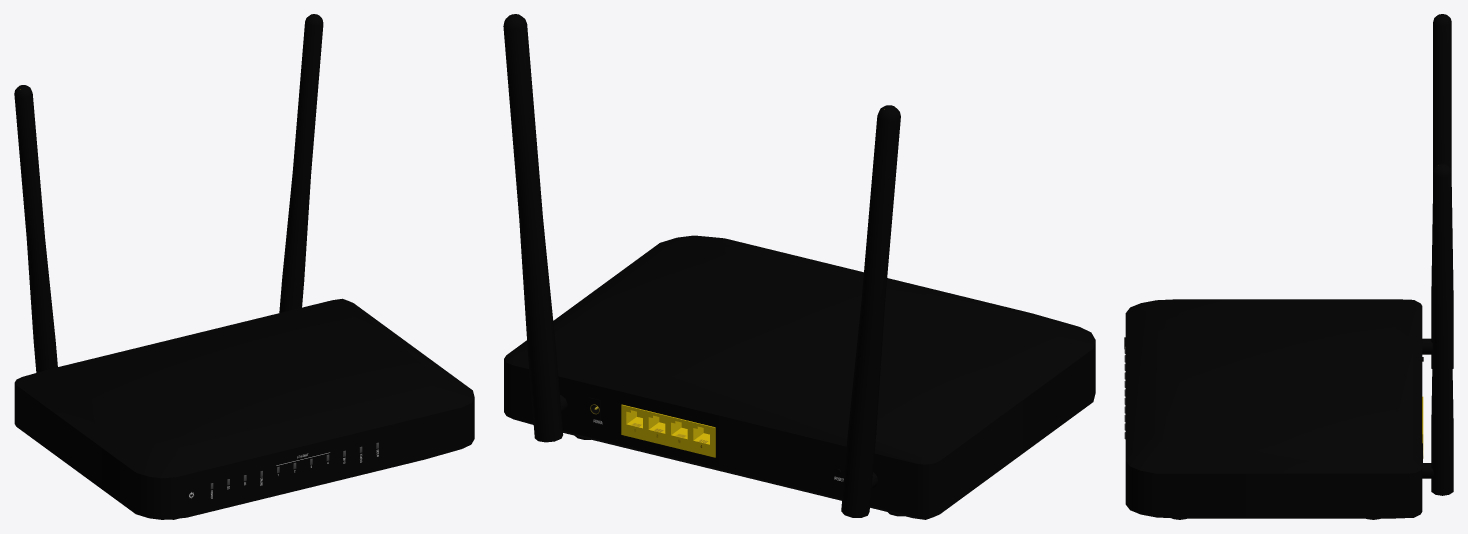
File: router.fbx
3 views of the same model, side by side, from view 1: azimuth 30°, elevation 25°; view 2: azimuth 150°, elevation 25°; view 3: azimuth 270°, elevation 25° (orthographic). The views are drawn at different scales.
Visible parts, largest first — view 1: Router; view 2: Router; view 3: Router.
Boxes of the visible parts, left/top/right/bottom form: Router: left=14, top=14, right=474, bottom=519; Router: left=503, top=14, right=1095, bottom=519; Router: left=1124, top=14, right=1453, bottom=519.
Size of the model in its own units: 20.29 by 19.79 by 16.28.
